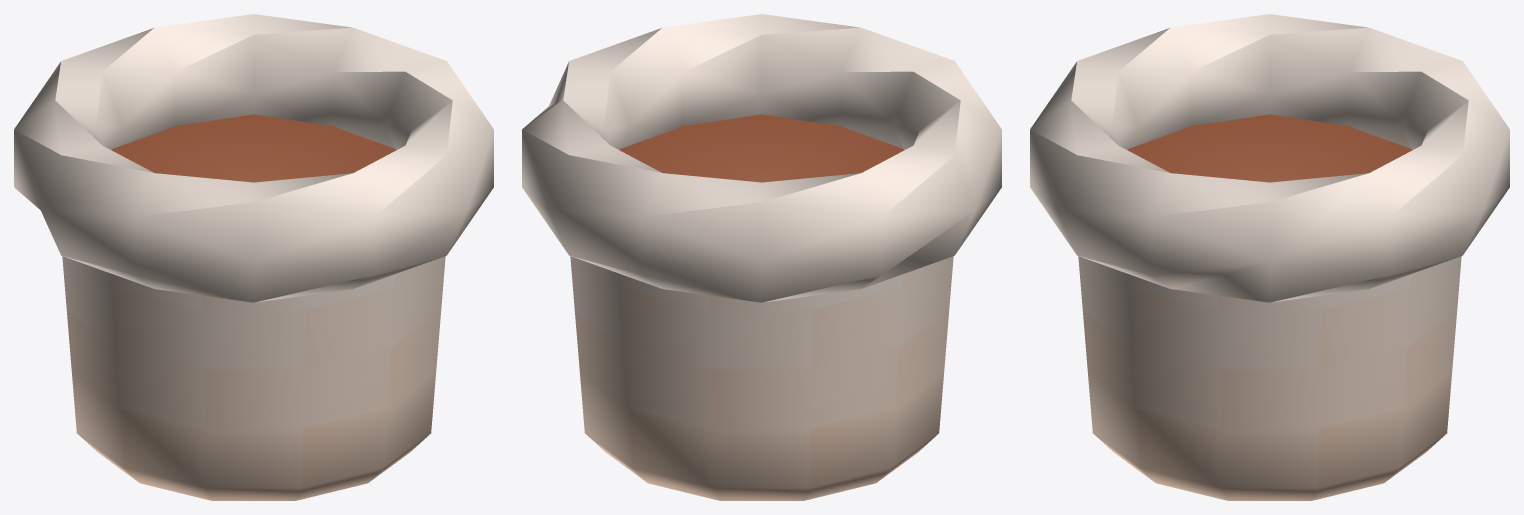
Rendered from house_plants_plants_medium_pot.glb.
3 renders of one model, left to right at view 1: azimuth 30°, elevation 25°; view 2: azimuth 150°, elevation 25°; view 3: azimuth 270°, elevation 25°, orthographic.
Parts seen in each view (by area): view 1: pot_D_medium; view 2: pot_D_medium; view 3: pot_D_medium.
Part boxes in pixels (x1=…): pot_D_medium: x1=14, y1=14, x2=493, y2=500; pot_D_medium: x1=522, y1=14, x2=1001, y2=500; pot_D_medium: x1=1030, y1=14, x2=1509, y2=500.
Size of the model in its own units: 1 by 0.75 by 0.9745.
1 material, 1 textured.
